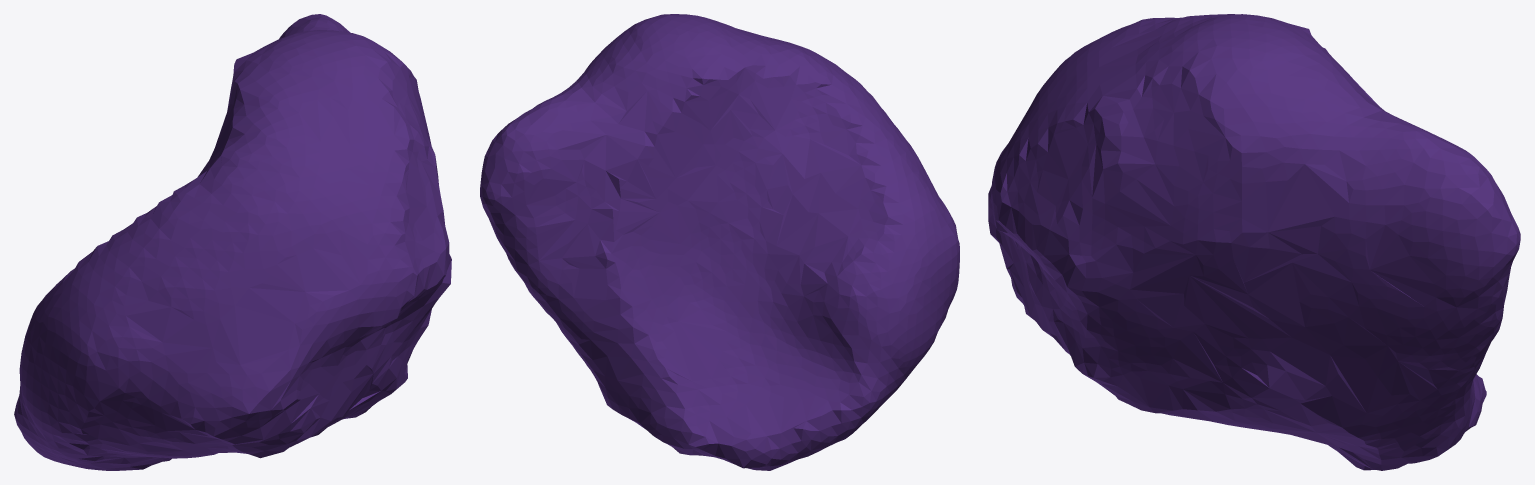
Rendered from Model_455_RH__Intermediate_gray_layer_of_the_superior_colliculus_(InG).obj.
3 views of the same model, side by side, from view 1: azimuth 30°, elevation 25°; view 2: azimuth 150°, elevation 25°; view 3: azimuth 270°, elevation 25° (orthographic). The views are drawn at different scales.
Size of the model in its own units: 2.81 by 2.73 by 2.77.
